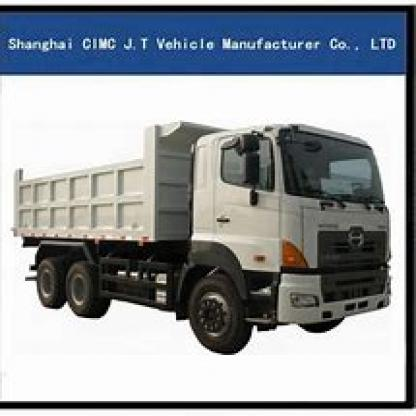dump_truck: (8, 104, 393, 348)
